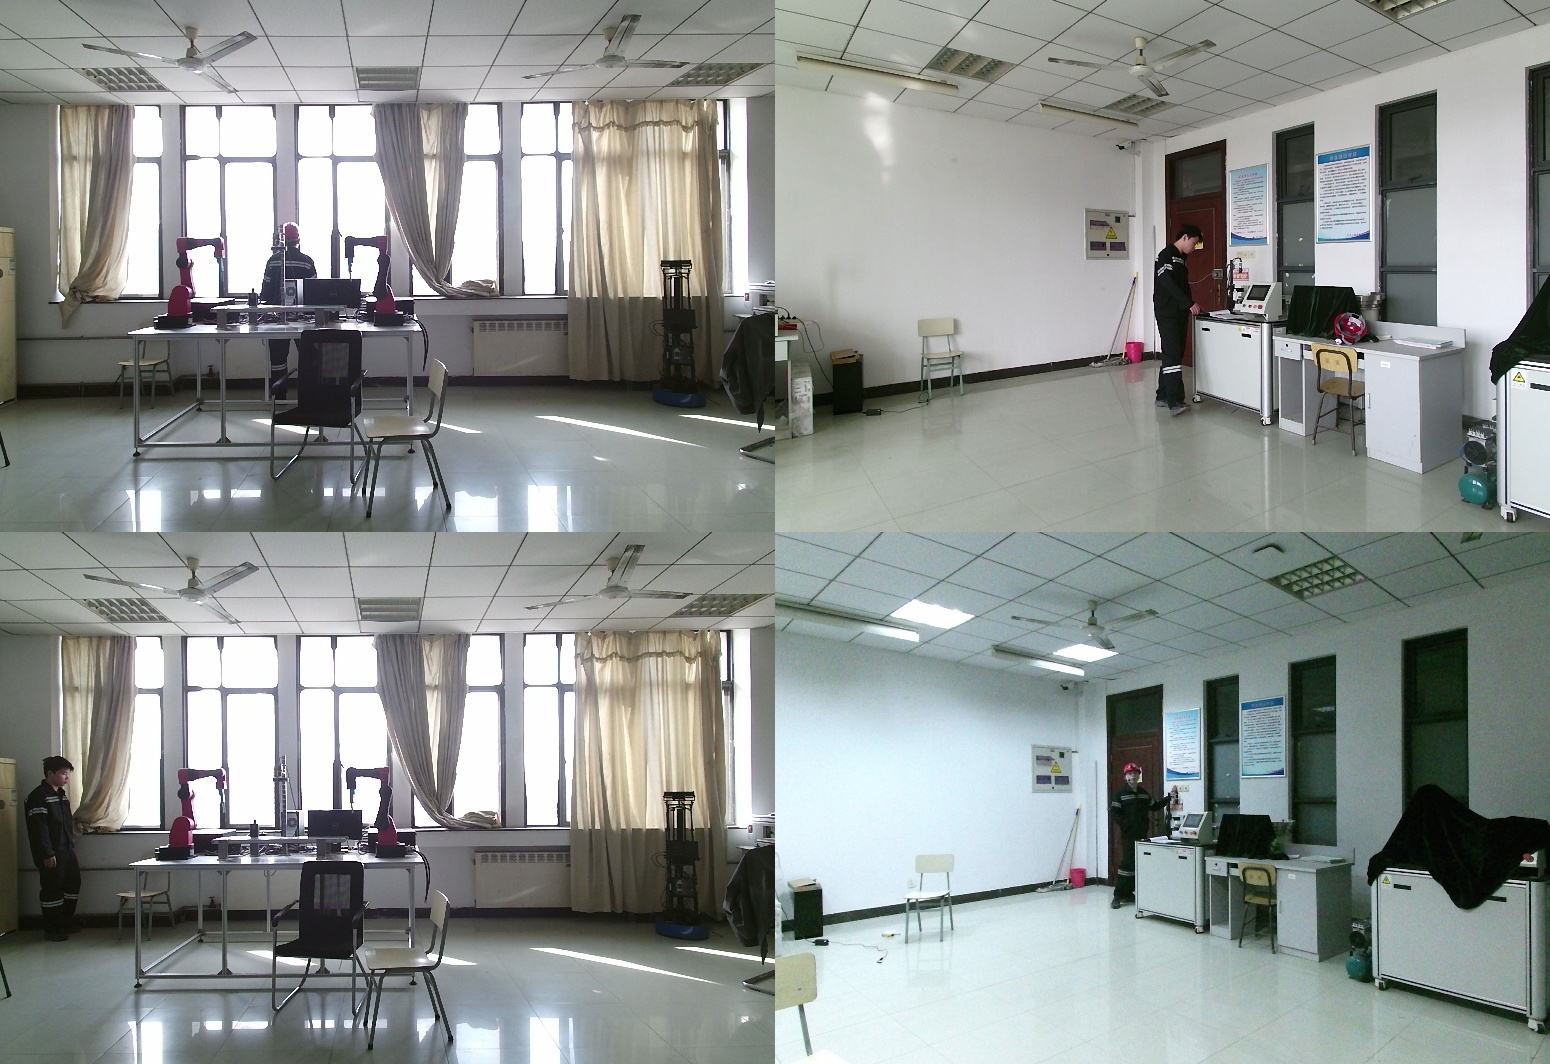person: (1147, 230, 1211, 420), (18, 756, 81, 943), (262, 226, 326, 407), (1107, 763, 1170, 912)
